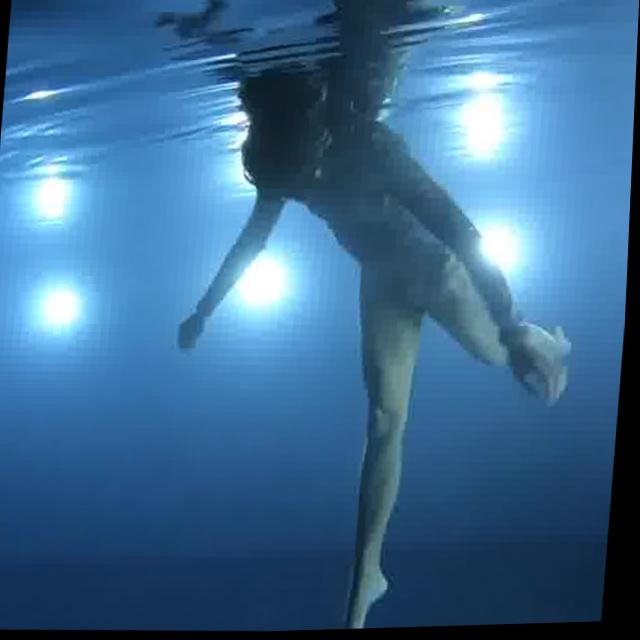human: (141, 111, 604, 636)
